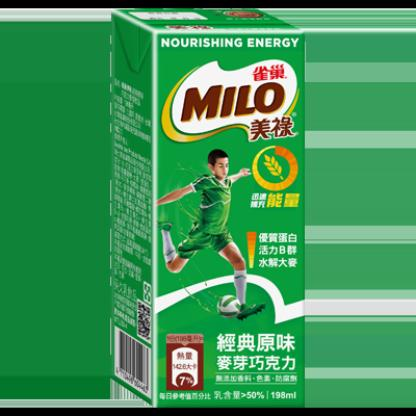Others: (111, 10, 302, 406)
